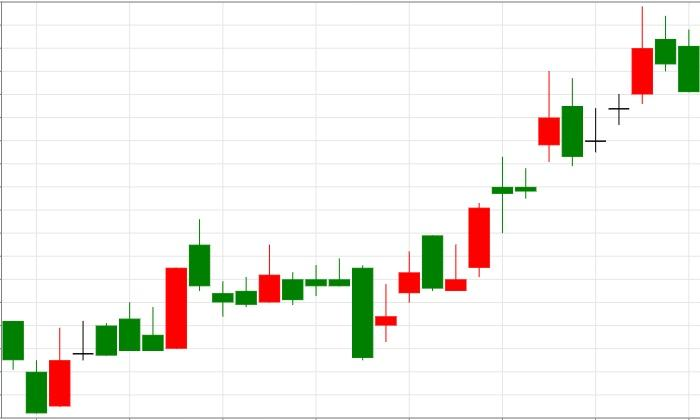shooting_star_fall: (445, 70, 559, 291)
